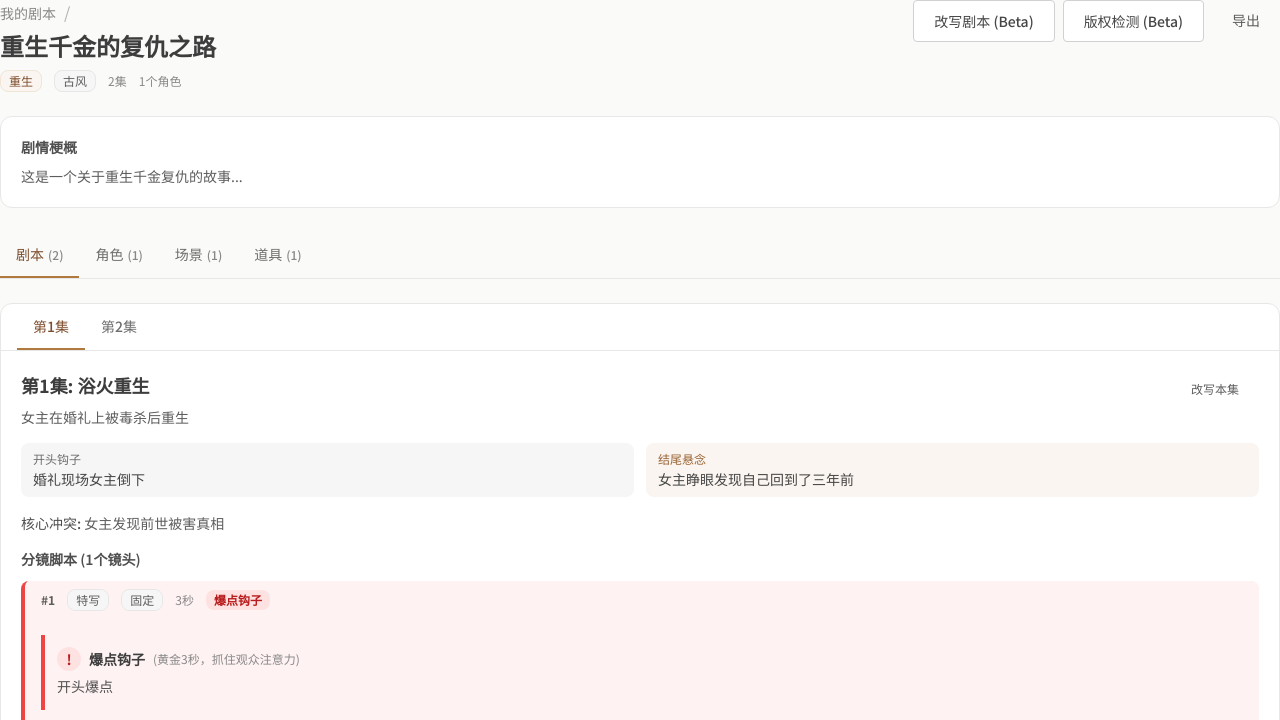
Test: ScriptViewerPage › switches to characters tab
This screenshot has width=1280, height=720.
Expected: the heading "重生千金的复仇之路" is shown, x1=0 y1=30 x2=216 y2=62
Step 1. Click the button "角色(1)" → (119, 255), box x1=79 y1=232 x2=159 y2=278
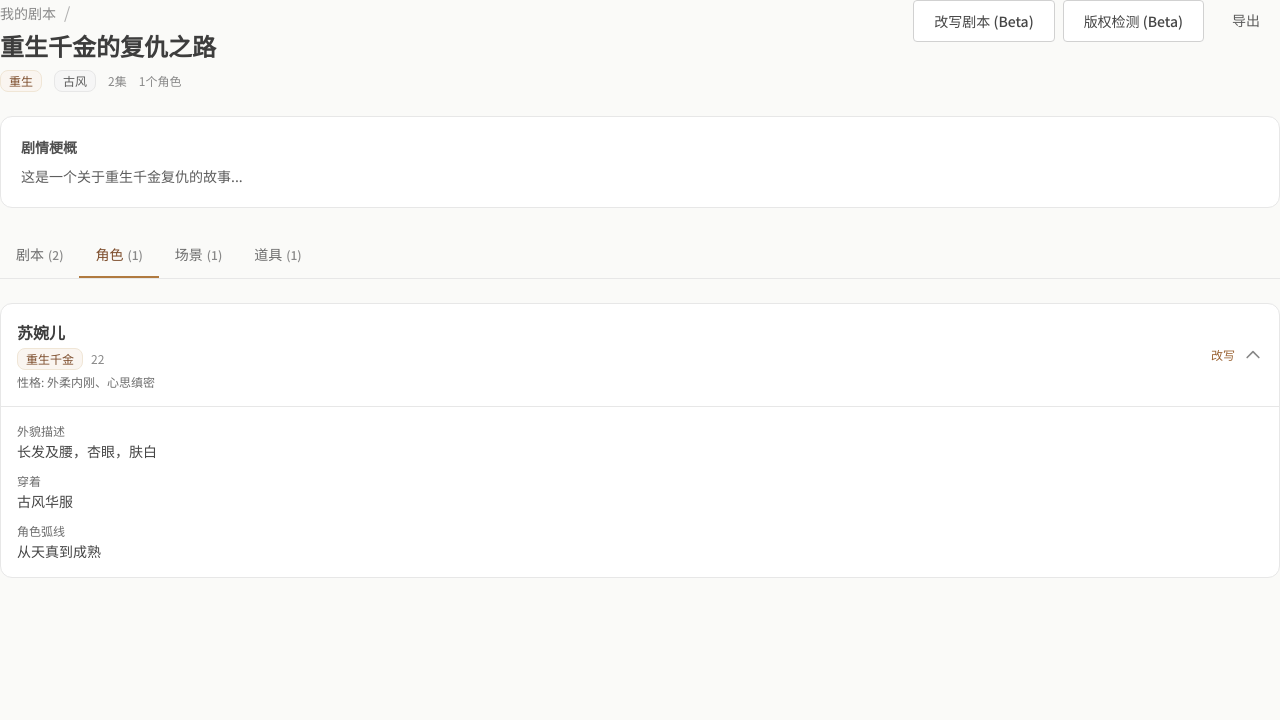
Result: the heading "苏婉儿" is shown at x1=17 y1=320 x2=65 y2=344
Result: the text "重生千金" is shown at x1=17 y1=348 x2=83 y2=370
